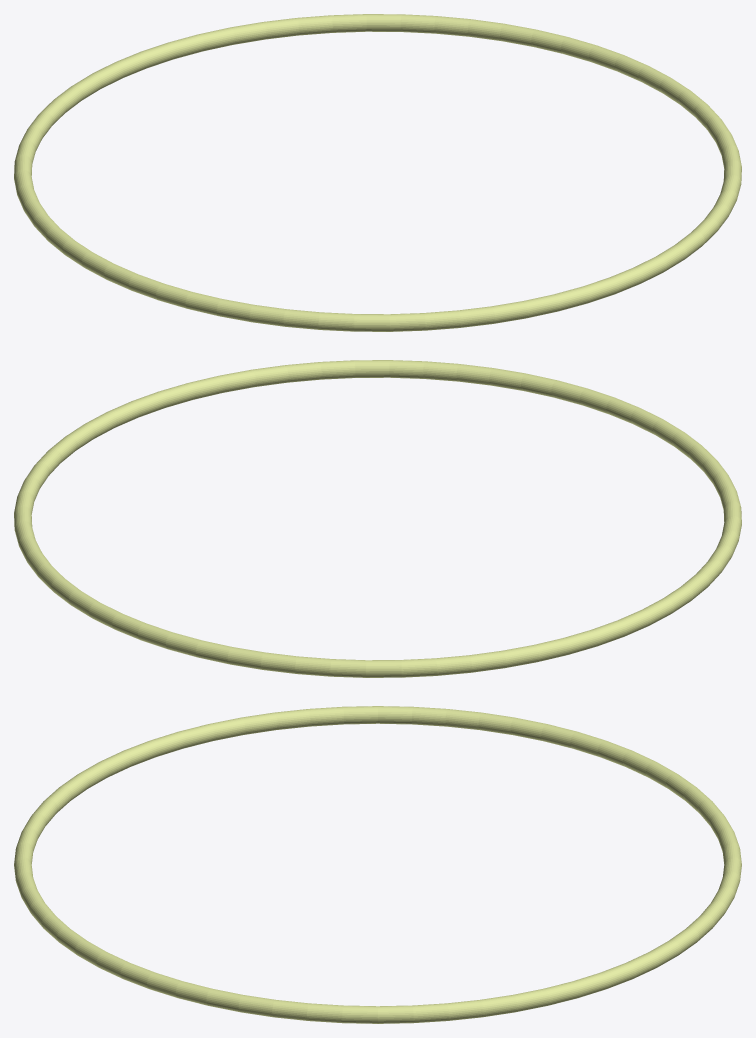
File: Ring1.fbx
3 views of the same model, one above another, from view 1: azimuth 30°, elevation 25°; view 2: azimuth 150°, elevation 25°; view 3: azimuth 270°, elevation 25° (orthographic).
Parts seen in each view (by area): view 1: Ring1; view 2: Ring1; view 3: Ring1.
Part boxes in pixels (x1,y1,x2,y2): Ring1: (14,14,741,331); Ring1: (14,360,741,677); Ring1: (14,706,741,1023).
Size of the model in its own units: 4100 by 100 by 4100.
